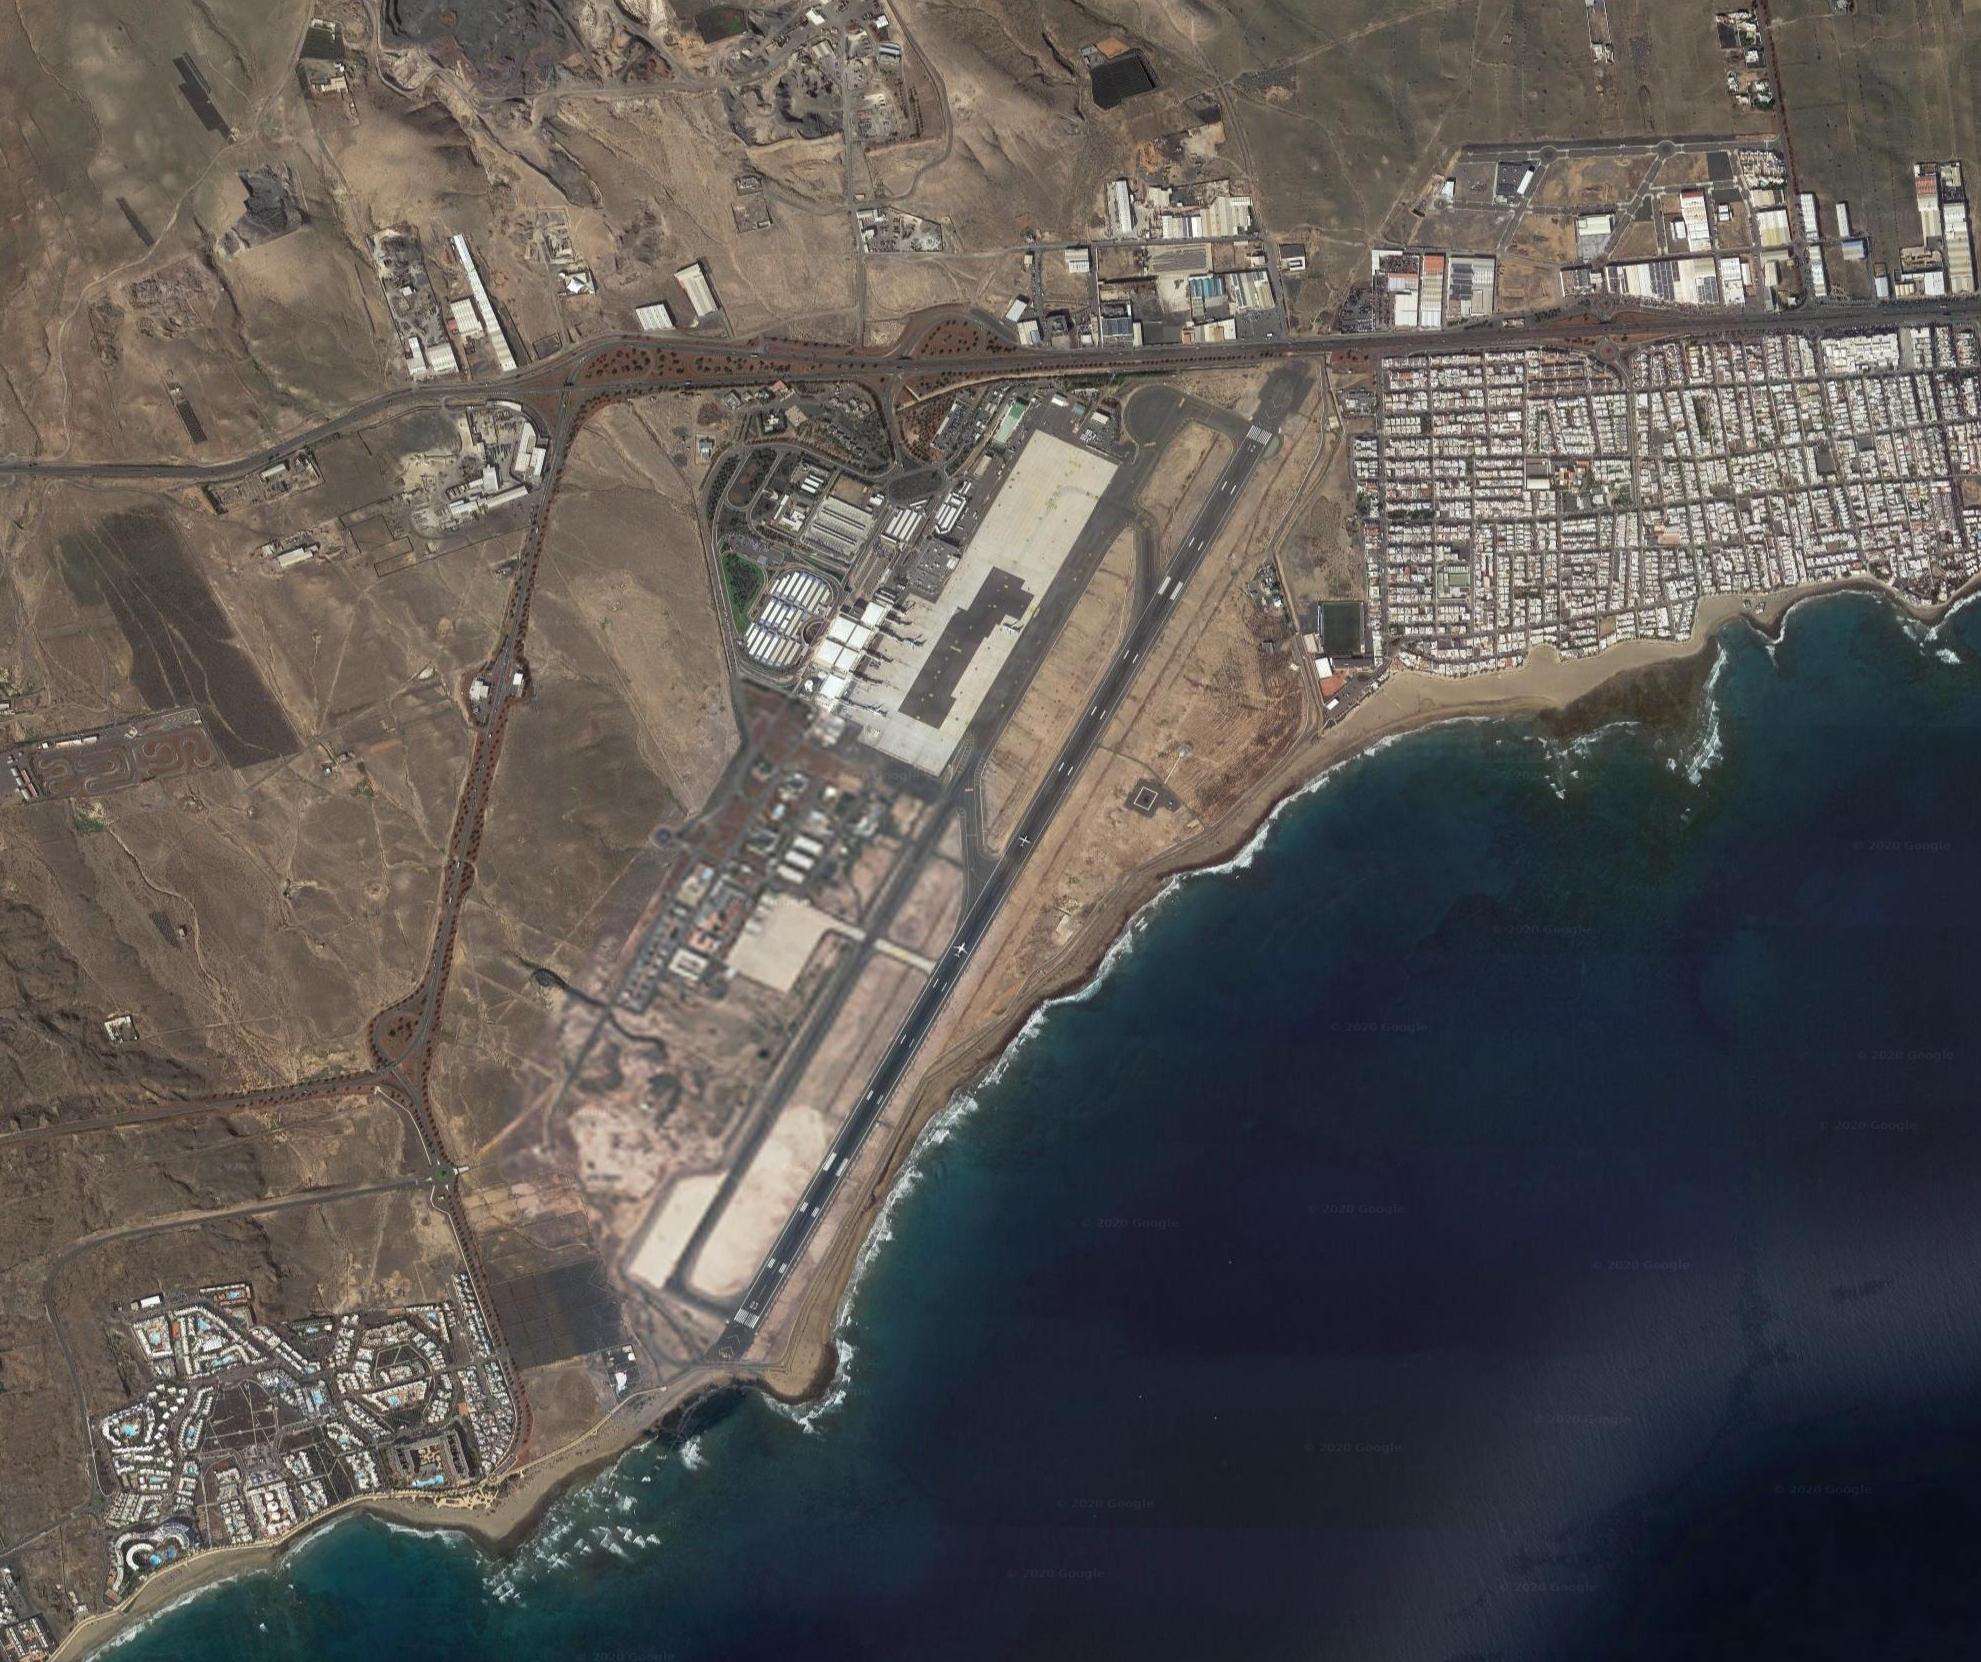airport: (658, 358, 1323, 1372)
industrial: (1015, 168, 1290, 330)
motorway: (669, 330, 918, 406), (466, 323, 669, 415), (344, 950, 453, 1096), (916, 323, 1177, 379), (1442, 298, 1702, 354), (1177, 322, 1435, 378), (1704, 292, 1981, 341), (503, 414, 574, 607), (419, 775, 489, 950), (460, 608, 531, 782), (308, 371, 468, 444), (153, 429, 313, 490), (171, 1073, 348, 1128), (2, 1096, 175, 1149), (2, 444, 153, 491)
